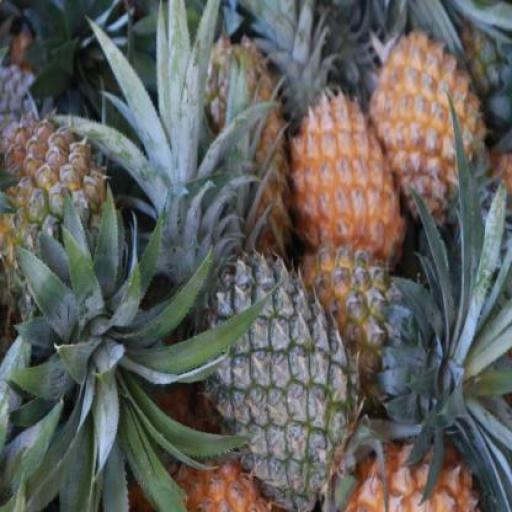------------------------------: (0, 114, 128, 328)
Pineapple - v8 v1: (372, 32, 485, 239), (291, 94, 406, 274)
